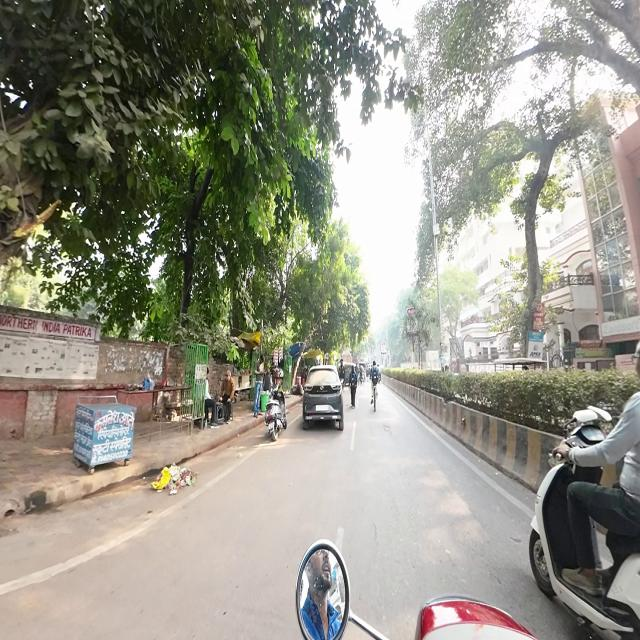Garbage: (150, 458, 196, 494)
